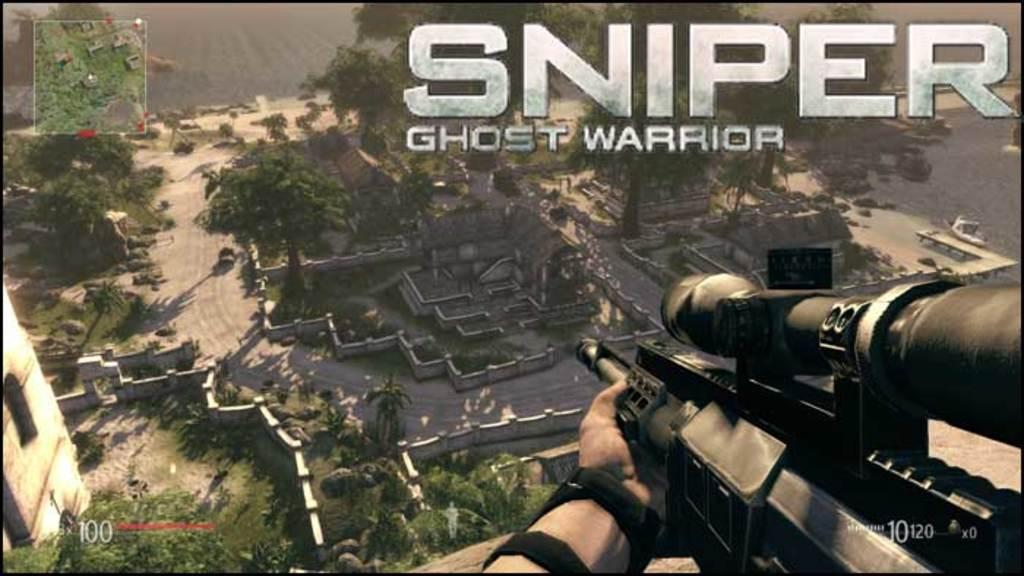Rifle: (575, 272, 1023, 575)
